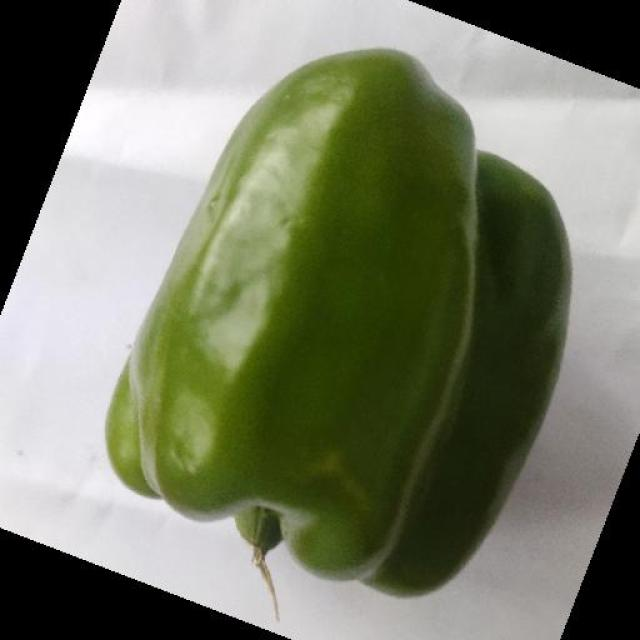Stale_Capsicum: (349, 98, 593, 585)
